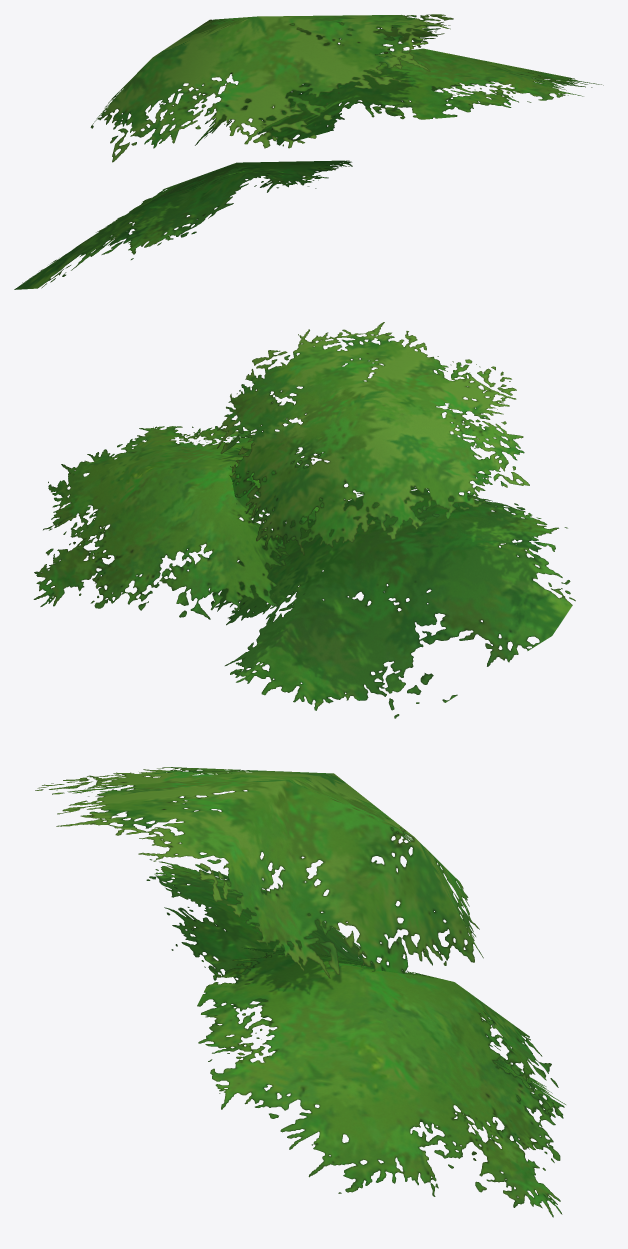
The model's file is Sce_tree_05.fbx.
3 renders of one model, top to bottom at view 1: azimuth 30°, elevation 25°; view 2: azimuth 150°, elevation 25°; view 3: azimuth 270°, elevation 25°, orthographic. The views are drawn at different scales.
Parts seen in each view (by area): view 1: polySurface518; view 2: polySurface518; view 3: polySurface518.
Boxes of the visible parts, bbox=[...] form: polySurface518: bbox=[14, 14, 603, 289]; polySurface518: bbox=[33, 322, 575, 718]; polySurface518: bbox=[35, 767, 565, 1217].
Size of the model in its own units: 21.59 by 10.59 by 15.94.
